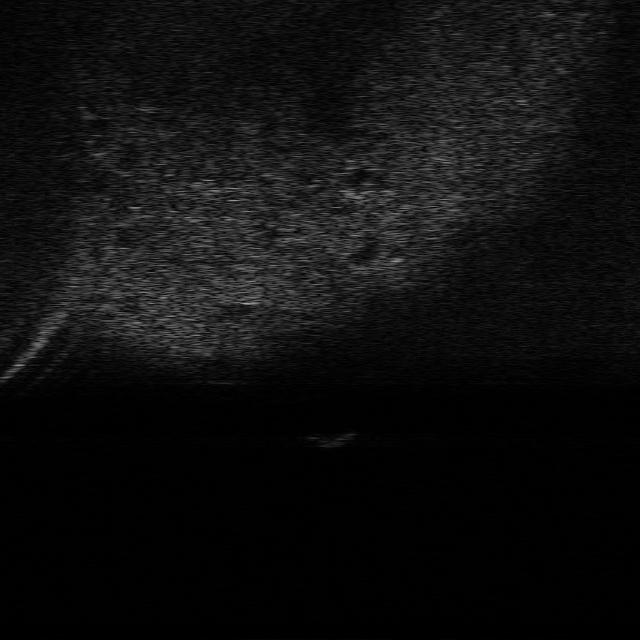cube: (306, 425, 358, 449)
